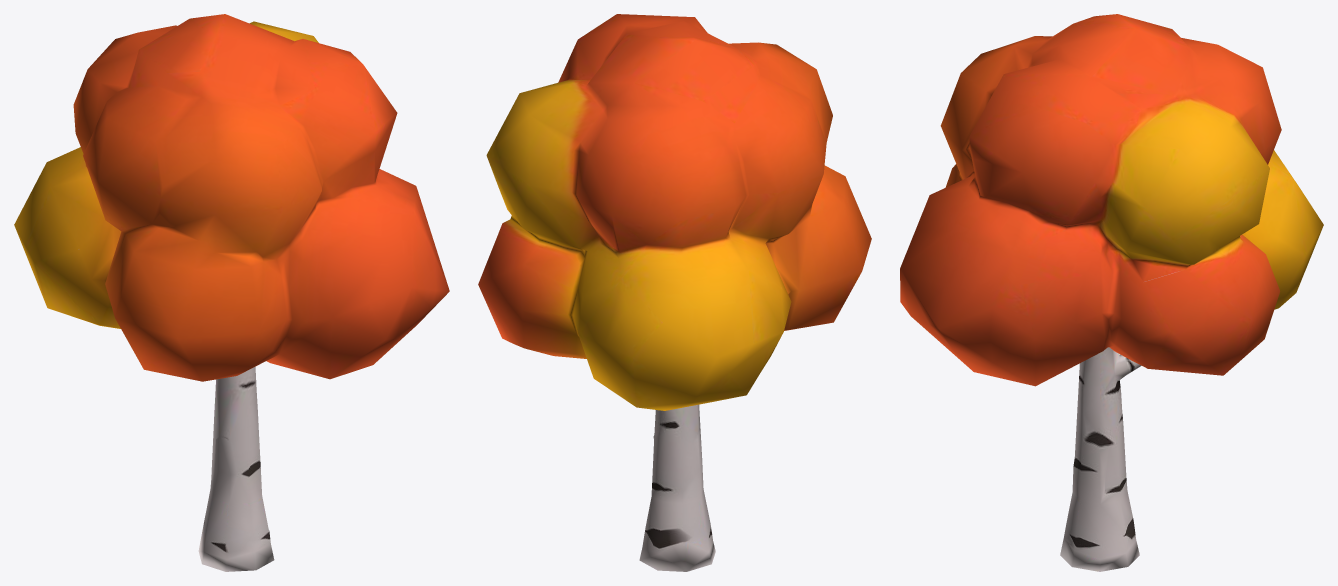
File: birch.glb
3 views of the same model, side by side, from view 1: azimuth 30°, elevation 25°; view 2: azimuth 150°, elevation 25°; view 3: azimuth 270°, elevation 25° (orthographic).
Parts seen in each view (by area): view 1: tripo_node_2d77bc29-7c0b-49fc-b147-b914dabc7008; view 2: tripo_node_2d77bc29-7c0b-49fc-b147-b914dabc7008; view 3: tripo_node_2d77bc29-7c0b-49fc-b147-b914dabc7008.
Boxes of the visible parts, x1,y1,x2,y2 form: tripo_node_2d77bc29-7c0b-49fc-b147-b914dabc7008: (14,14,449,571); tripo_node_2d77bc29-7c0b-49fc-b147-b914dabc7008: (478,14,871,571); tripo_node_2d77bc29-7c0b-49fc-b147-b914dabc7008: (900,14,1323,571).
Size of the model in its own units: 4.26 by 7 by 5.08.
1 material, 1 textured.
